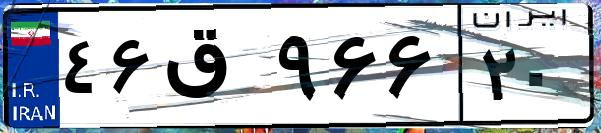0: (525, 38, 570, 115)
2: (475, 38, 525, 113)
4: (57, 26, 110, 100)
6: (385, 28, 445, 110), (330, 28, 385, 110), (110, 28, 158, 98)
9: (270, 28, 330, 110)
ق: (158, 20, 270, 120)
